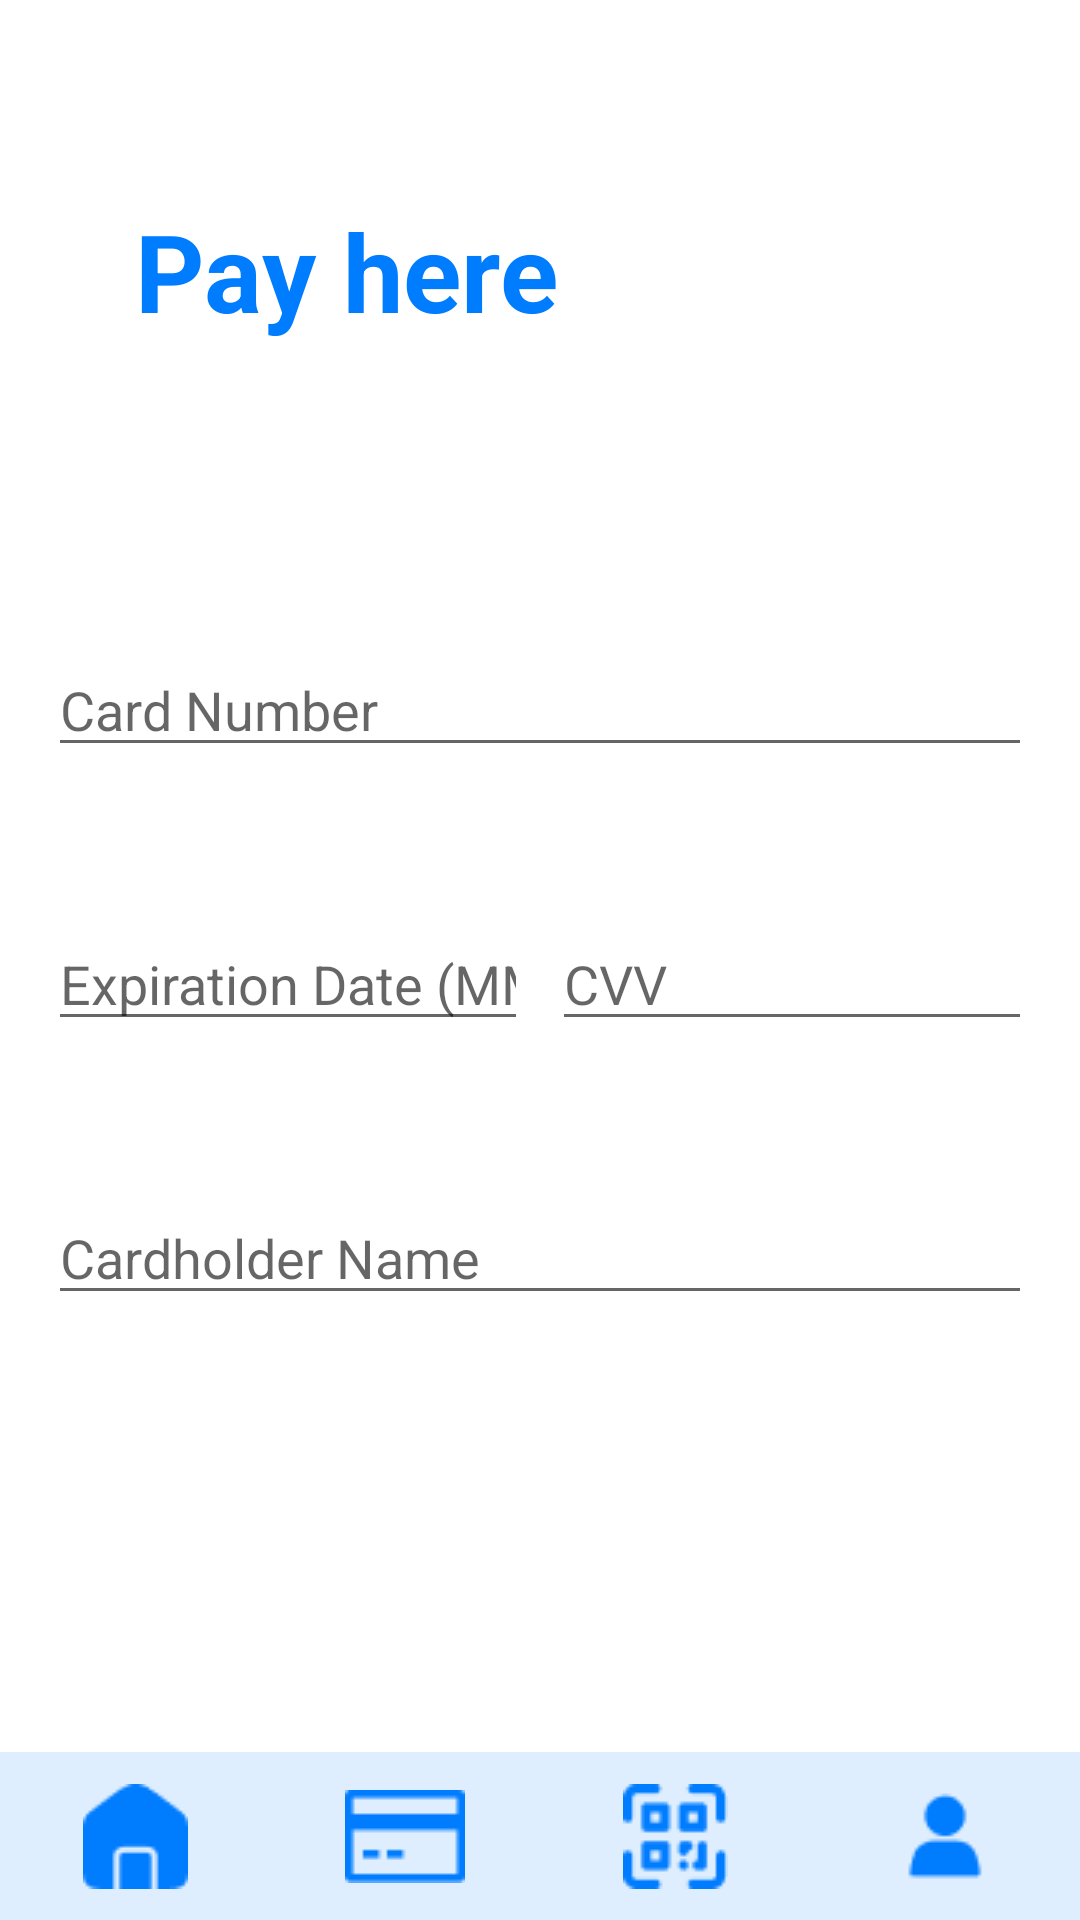

Point at icon controls on the screen. Image size 1080 × 1920, points as (x=x, y=y).
card: (x=405, y=1836)
home: (x=135, y=1836)
profile: (x=945, y=1836)
